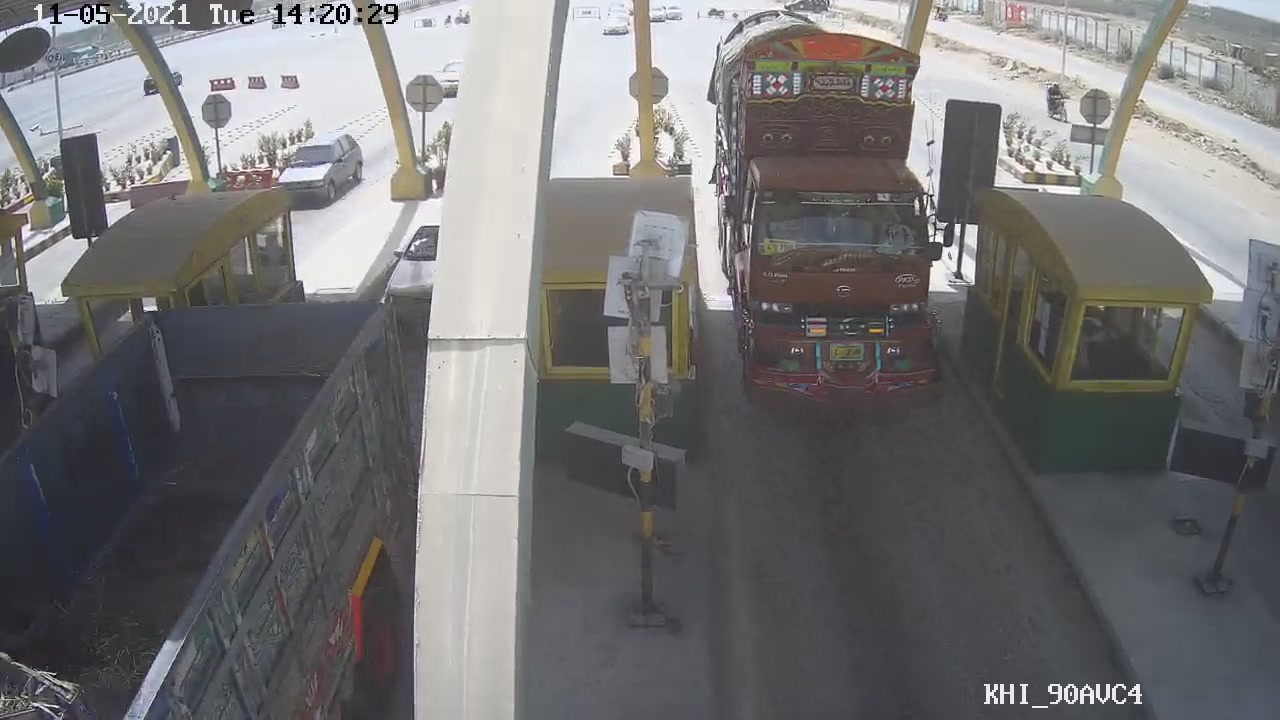F5: (713, 15, 941, 405)
